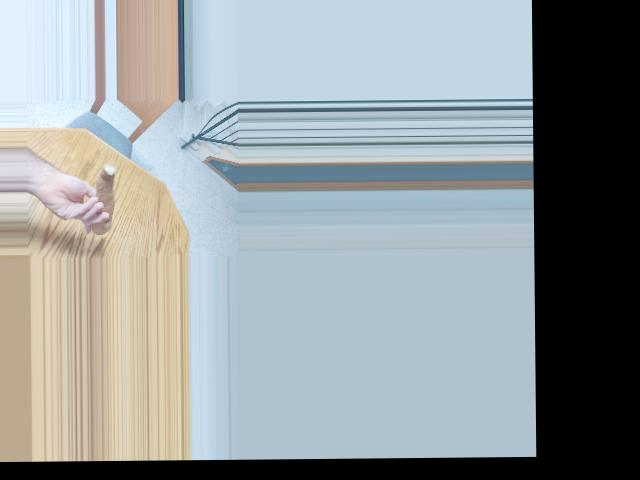sweet_potato: (93, 158, 115, 235)
